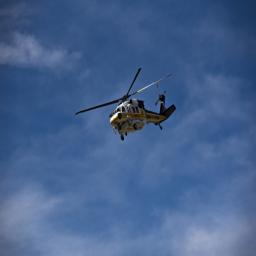helicopter: (78, 69, 176, 145)
